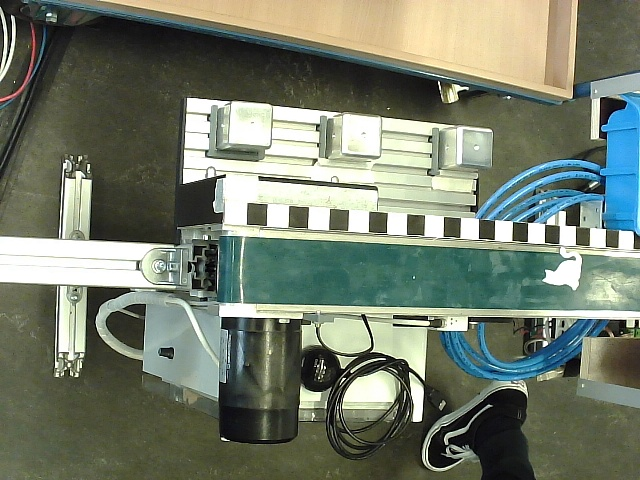cat: (542, 246, 583, 292)
